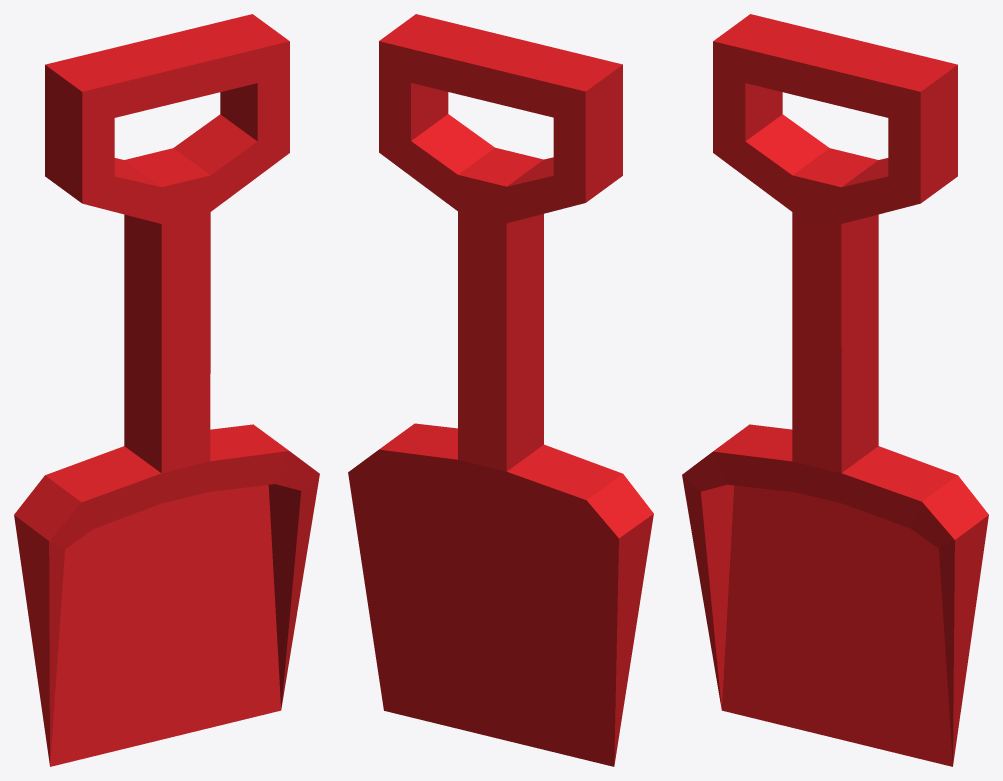
Rendered from Shovel_tex.fbx.
The picture shows the model from 3 angles, left to right: view 1: azimuth 30°, elevation 25°; view 2: azimuth 150°, elevation 25°; view 3: azimuth 330°, elevation 25°; orthographic projection.
Parts seen in each view (by area): view 1: Shovel_tex; view 2: Shovel_tex; view 3: Shovel_tex.
Part boxes in pixels (left/top/right/bottom): Shovel_tex: left=14, top=14, right=319, bottom=766; Shovel_tex: left=348, top=14, right=653, bottom=766; Shovel_tex: left=682, top=14, right=988, bottom=766.
Bounding box in the file's own units: 0.2419 × 0.5842 × 0.0575.
